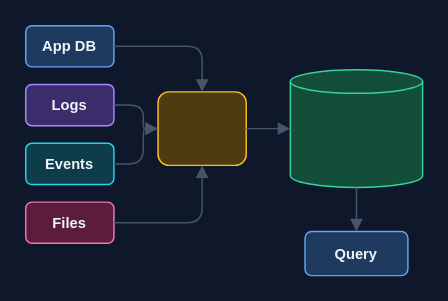
The diagram is 448 pixels wide and 301 high, and some of its shapes have lost their labels. Each missing label, with the centre of its shape:
Data Lake: point (356, 127)
Ingest: point (201, 127)
